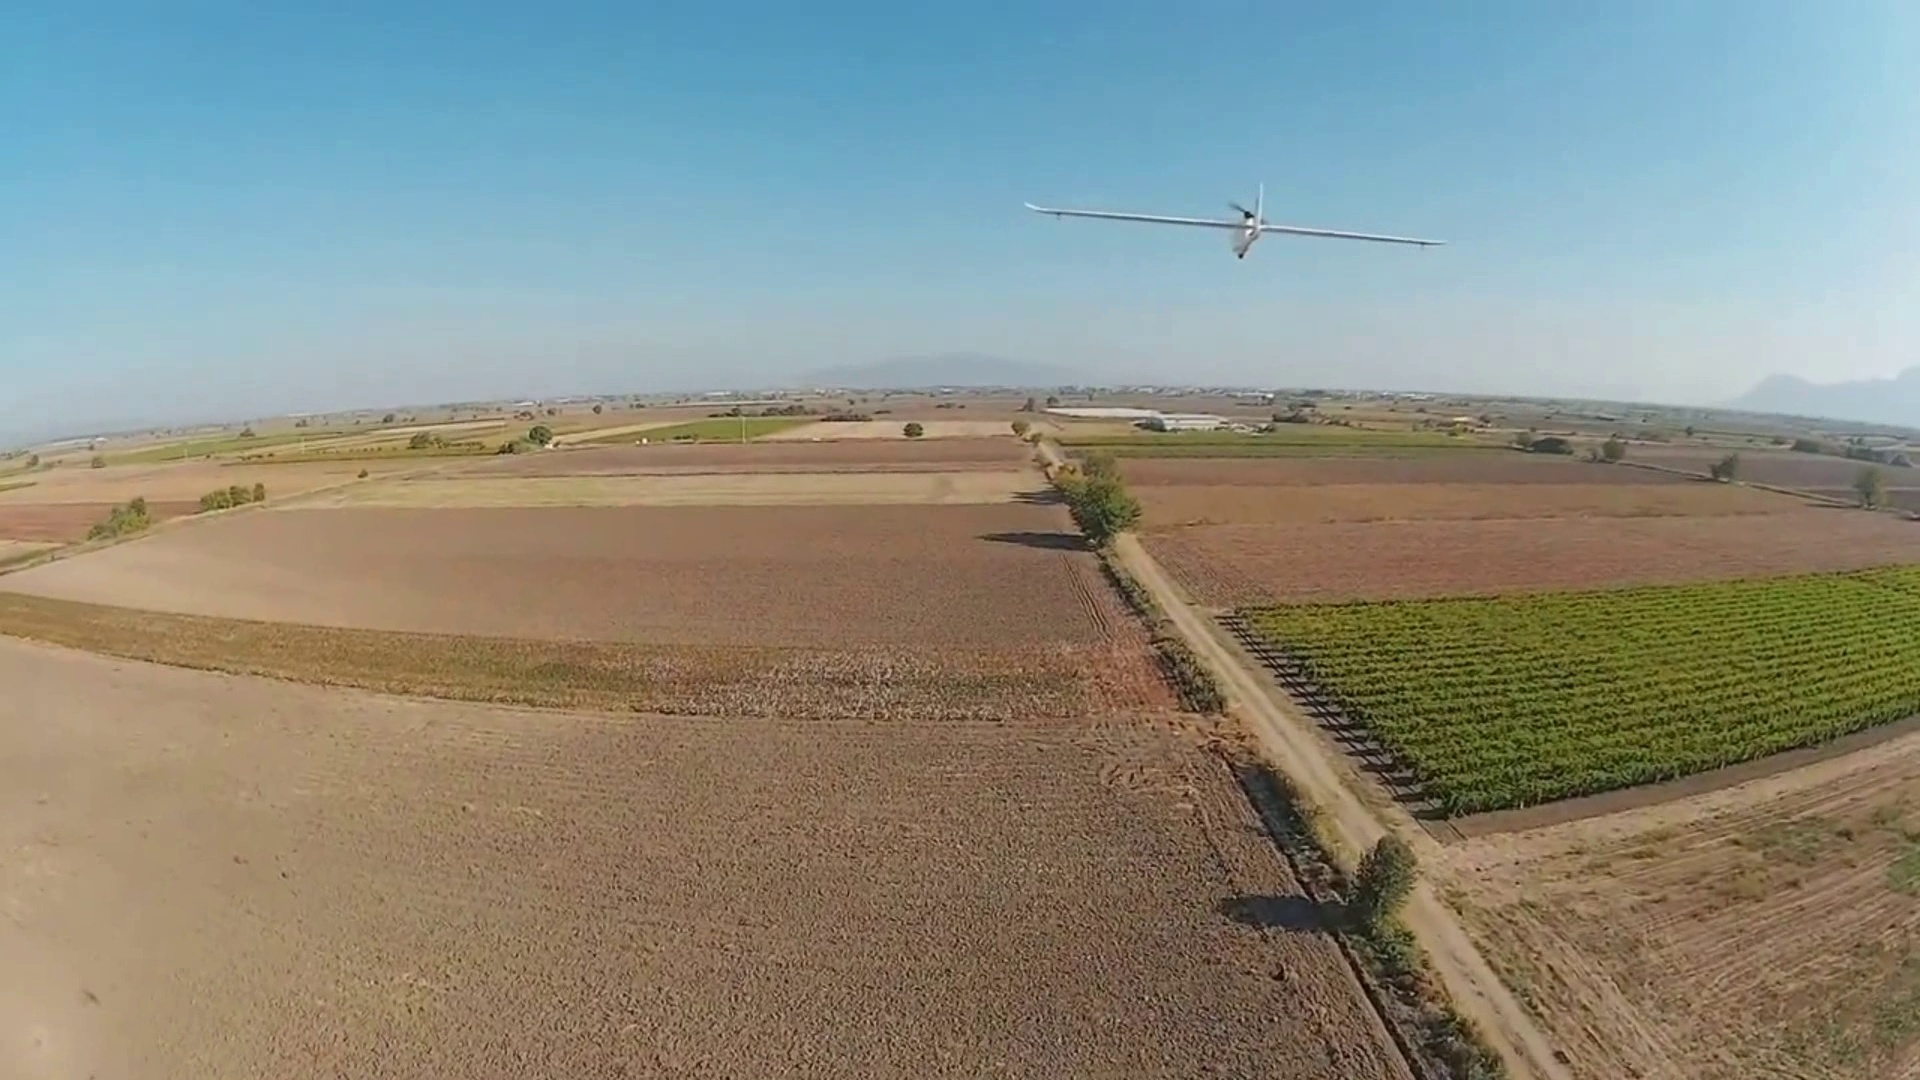airplane: (1021, 188, 1446, 262)
